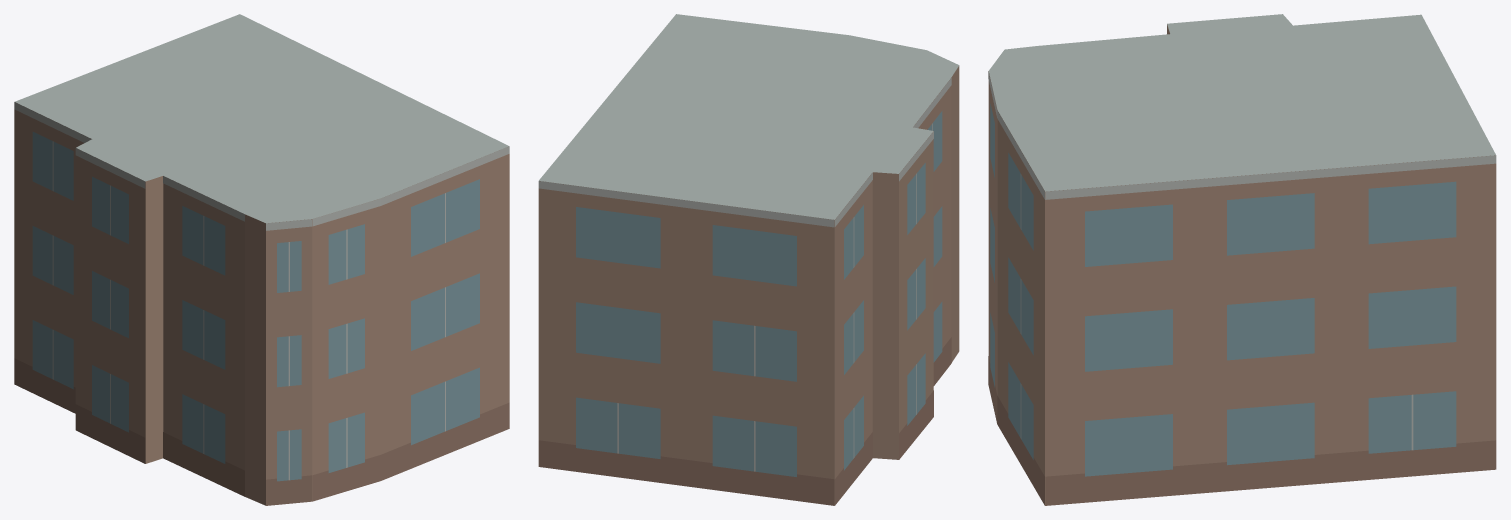
File: survey-upis-32687083.glb
3 views of the same model, side by side, from view 1: azimuth 30°, elevation 25°; view 2: azimuth 150°, elevation 25°; view 3: azimuth 270°, elevation 25° (orthographic). The views are drawn at different scales.
Visible parts, largest first — view 1: survey-upis-32687083.tmp; view 2: survey-upis-32687083.tmp; view 3: survey-upis-32687083.tmp.
Boxes of the visible parts, x1,y1,x2,y2 form: survey-upis-32687083.tmp: (14, 14, 509, 505); survey-upis-32687083.tmp: (538, 14, 959, 505); survey-upis-32687083.tmp: (988, 14, 1496, 505).
Bounding box in the file's own units: 11.09 × 9.15 × 13.4.
